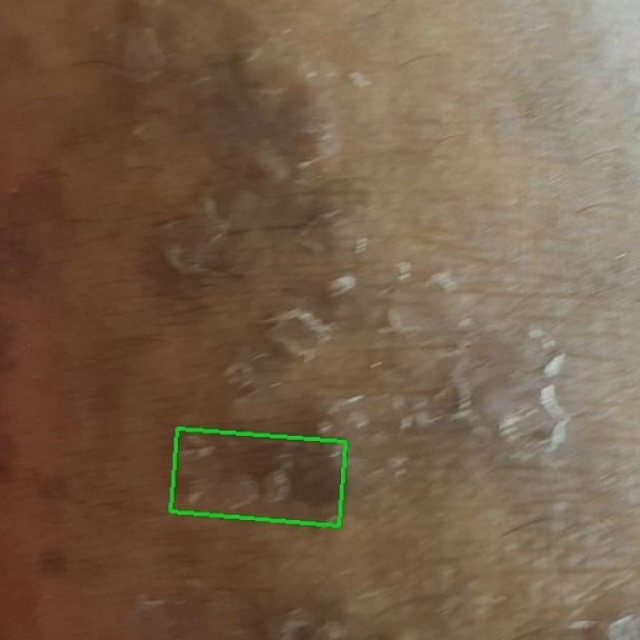Tinea Corporis: (171, 427, 345, 525)
